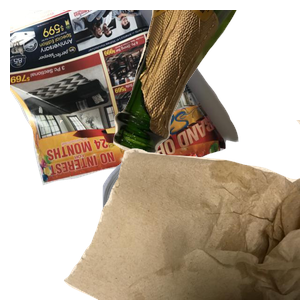glass: (111, 10, 300, 158)
paper: (10, 10, 241, 188)
plastic: (100, 152, 293, 300)
trash: (60, 120, 300, 300)
